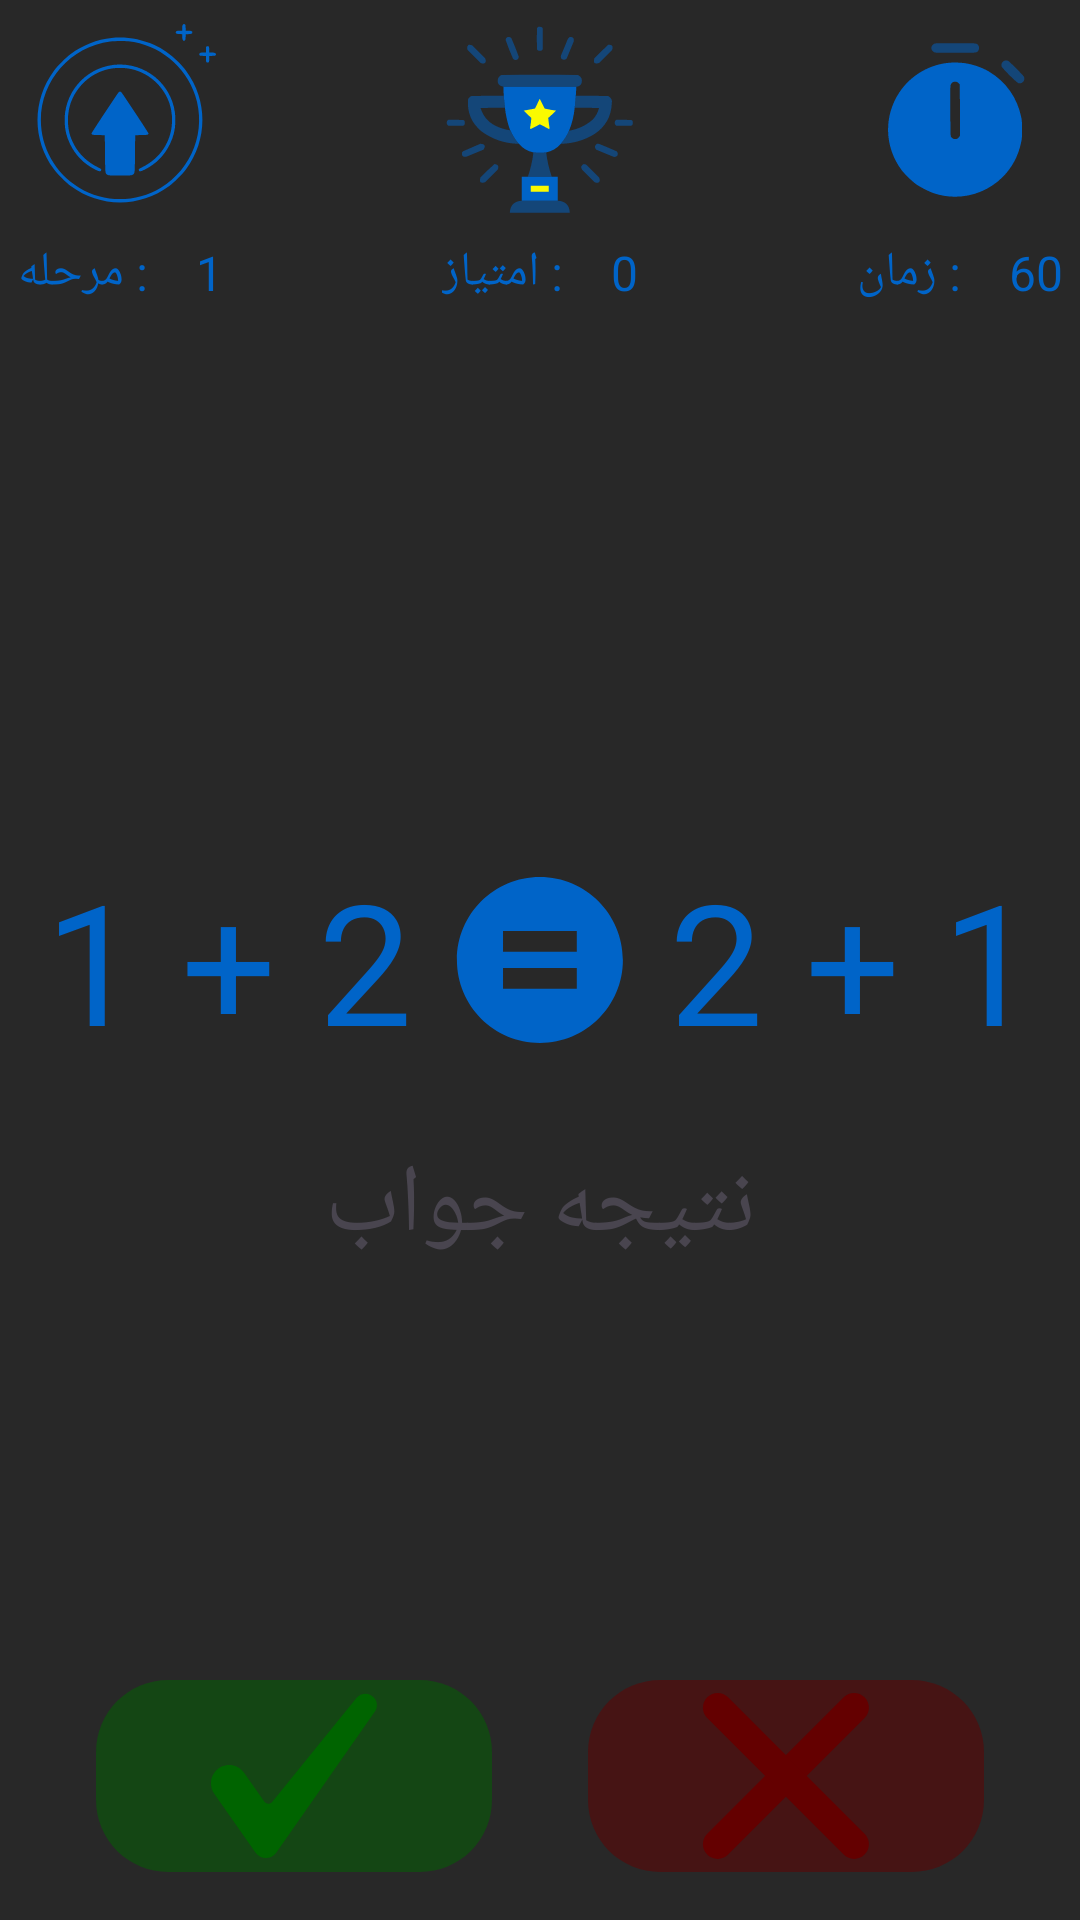

Named icons in this screenshot (1080 x 1920) and their bounding boxes, {"left": x1, "top": y1, "right": x2, "bottom": y2}:
Level: {"left": 37, "top": 24, "right": 216, "bottom": 203}
Sign: {"left": 456, "top": 877, "right": 623, "bottom": 1043}
Timer: {"left": 888, "top": 43, "right": 1024, "bottom": 197}
